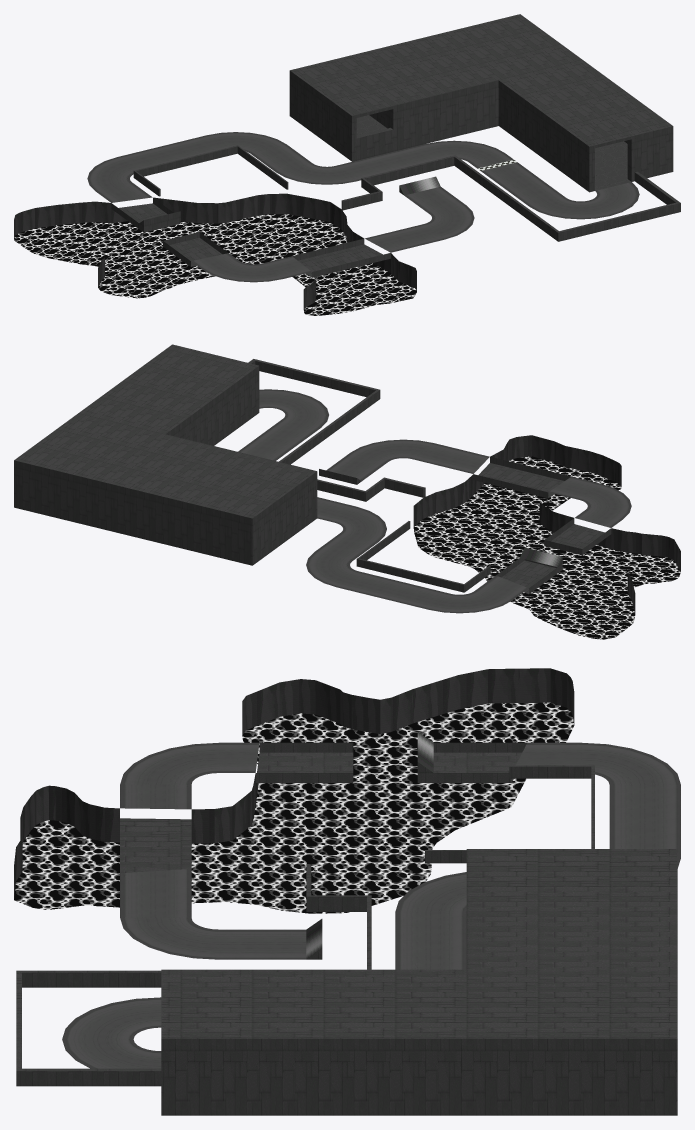
The picture shows the model from 3 angles, top to bottom: view 1: azimuth 30°, elevation 25°; view 2: azimuth 150°, elevation 25°; view 3: azimuth 270°, elevation 25°; orthographic projection. The views are drawn at different scales.
Parts seen in each view (by area): view 1: course-SKP--Wall.004, course-SKP--Road.005, course-SKP--Water.003, course-SKP--Rockwall, course-SKP--Road2.001; view 2: course-SKP--Wall.004, course-SKP--Water.003, course-SKP--Road.005, course-SKP--Rockwall, course-SKP--Boost.002; view 3: course-SKP--Wall.004, course-SKP--Water.003, course-SKP--Road.005, course-SKP--Rockwall, course-SKP--Boost.002.
Boxes of the visible parts, x1,y1,x2,y2 form: course-SKP--Wall.004: [111, 14, 680, 277]; course-SKP--Road.005: [87, 132, 639, 282]; course-SKP--Water.003: [14, 214, 416, 315]; course-SKP--Rockwall: [14, 193, 416, 309]; course-SKP--Road2.001: [356, 115, 631, 190]; course-SKP--Wall.004: [14, 344, 611, 594]; course-SKP--Water.003: [413, 456, 680, 639]; course-SKP--Road.005: [238, 389, 631, 613]; course-SKP--Rockwall: [413, 435, 680, 613]; course-SKP--Boost.002: [520, 547, 562, 566]; course-SKP--Wall.004: [16, 742, 677, 1115]; course-SKP--Water.003: [14, 702, 574, 913]; course-SKP--Road.005: [62, 742, 680, 1068]; course-SKP--Rockwall: [14, 668, 574, 898]; course-SKP--Boost.002: [306, 732, 433, 959].
Size of what is drawn, in the model's own units: 50090 by 5816 by 31570.
7 materials, 7 textured.
